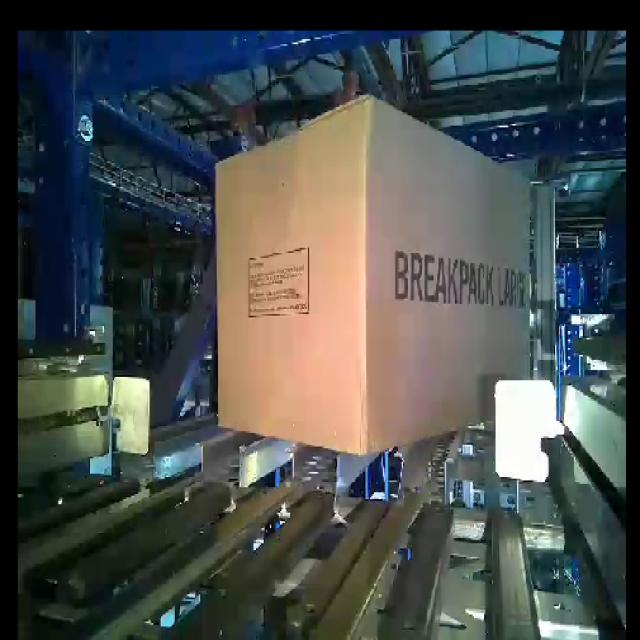box: (363, 95, 536, 456)
